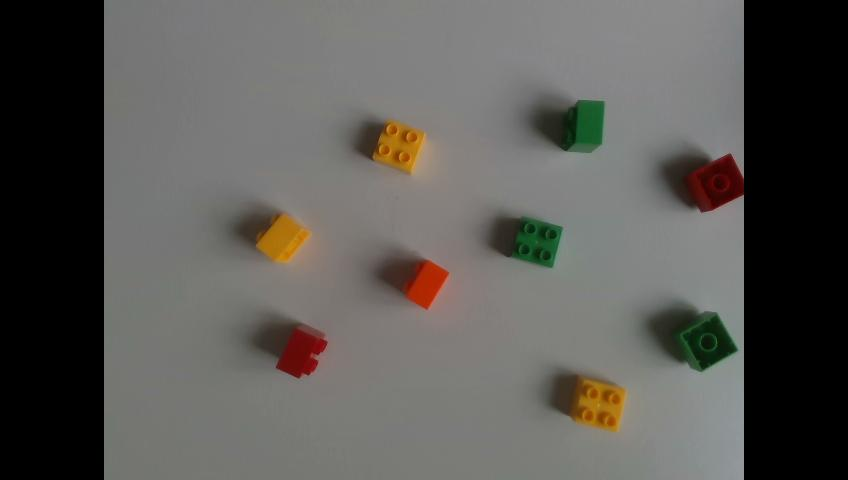2x2_green: (669, 309, 739, 374), (512, 215, 561, 266), (564, 98, 604, 150)
2x2_orange: (404, 258, 448, 308)
2x2_red: (684, 151, 744, 213), (276, 324, 327, 377)
2x2_yellow: (370, 118, 428, 177), (572, 375, 626, 433), (256, 212, 310, 260)
